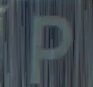Parking: (27, 11, 82, 79)
